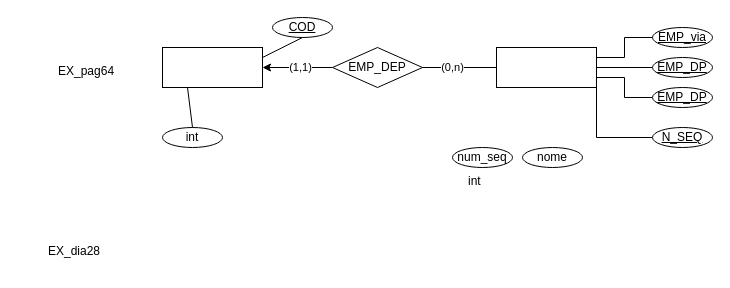
The diagram is 730 pixels wide and 288 high, and some of its shapes have lost their labels. The shapes that lost their labels are listed below. From the top down, each one's centre as x and y in pixels, then its label:
At point (212, 67): "Empregado".
At point (546, 67): "DEPENDENTE".
